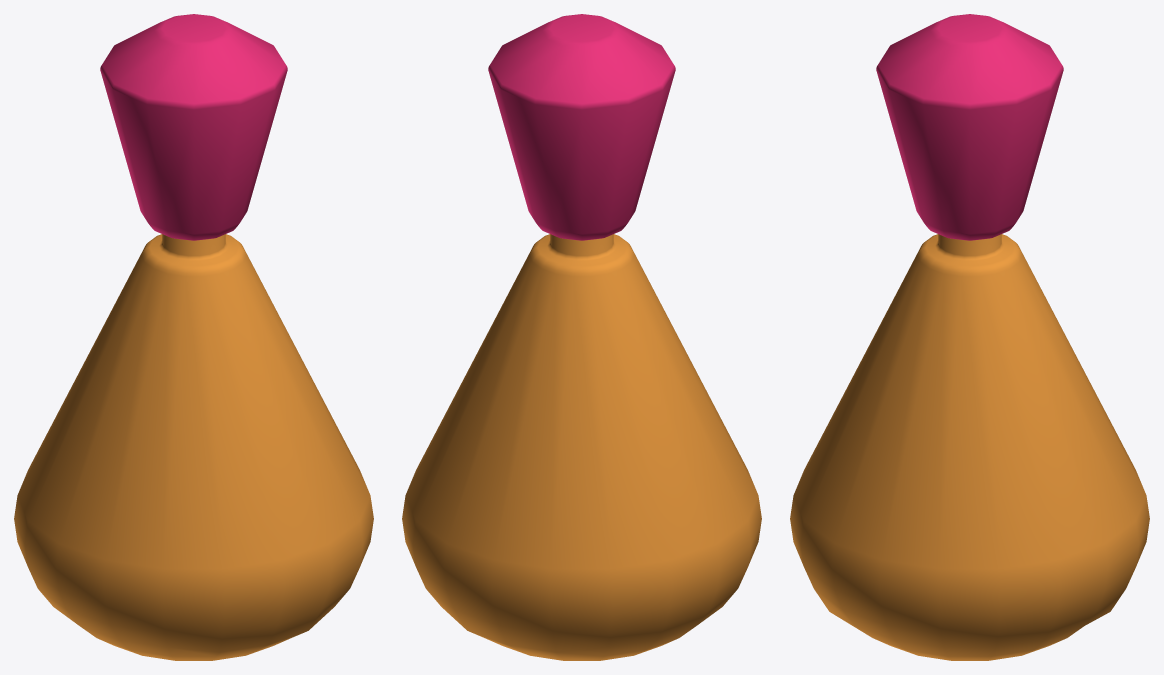
File: Perfume3.fbx
3 views of the same model, side by side, from view 1: azimuth 30°, elevation 25°; view 2: azimuth 150°, elevation 25°; view 3: azimuth 270°, elevation 25° (orthographic).
Parts seen in each view (by area): view 1: parfume3govde, parfume3Kapak; view 2: parfume3govde, parfume3Kapak; view 3: parfume3govde, parfume3Kapak.
Boxes of the visible parts, box(x1,y1,x2,y2) form: parfume3govde: box(14, 234, 373, 660); parfume3Kapak: box(100, 14, 287, 240); parfume3govde: box(402, 234, 761, 660); parfume3Kapak: box(488, 14, 675, 240); parfume3govde: box(790, 234, 1149, 660); parfume3Kapak: box(876, 14, 1063, 240).
Size of the model in its own units: 0.5919 by 1.09 by 0.601.
